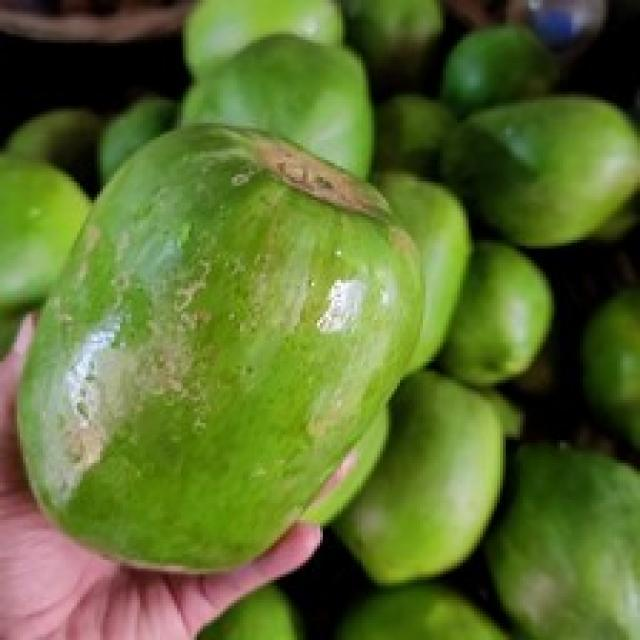Pepaya unrippen: (20, 110, 446, 601)
